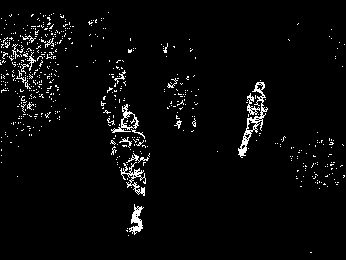person: (110, 111, 150, 234), (236, 80, 270, 158)
